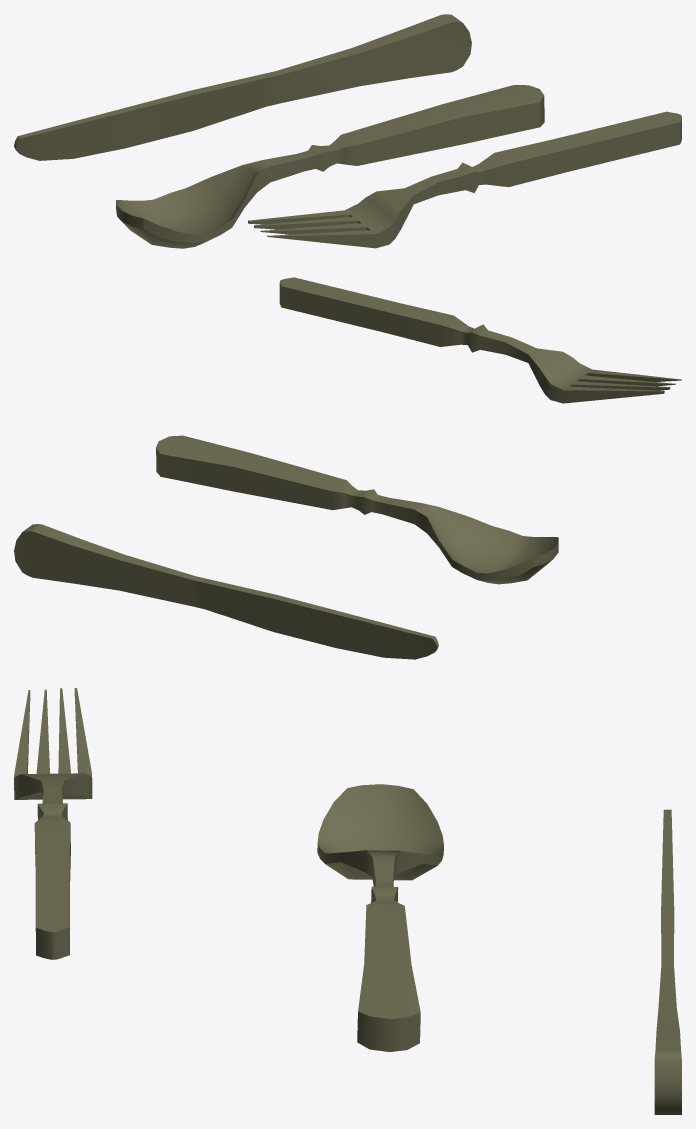
The model's file is Talheres.fbx.
The picture shows the model from 3 angles, top to bottom: view 1: azimuth 30°, elevation 25°; view 2: azimuth 150°, elevation 25°; view 3: azimuth 270°, elevation 25°; orthographic projection. The views are drawn at different scales.
Parts seen in each view (by area): view 1: Faca, Colher, Garfo; view 2: Faca, Colher, Garfo; view 3: Colher, Garfo, Faca.
Part boxes in pixels (x1,y1,x2,y2): Faca: [14, 14, 471, 160]; Colher: [116, 85, 544, 248]; Garfo: [248, 111, 681, 248]; Faca: [14, 524, 438, 659]; Colher: [156, 435, 558, 584]; Garfo: [279, 277, 681, 403]; Colher: [317, 784, 443, 1051]; Garfo: [14, 688, 92, 959]; Faca: [654, 809, 681, 1114].
Bounding box in the file's own units: 9.92 × 2.88 × 10.06.
